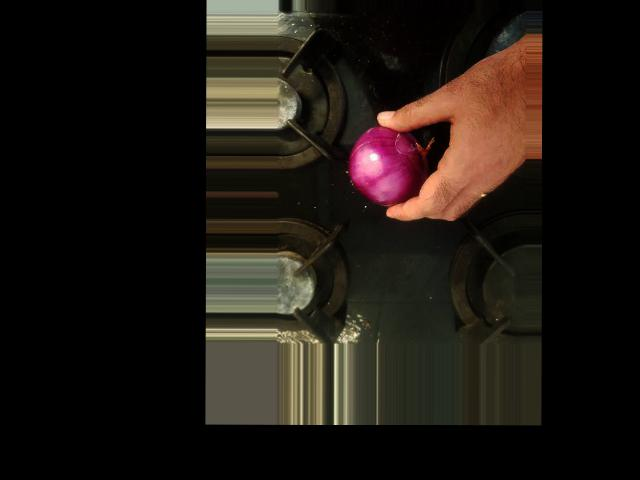onion: (304, 189, 389, 273)
